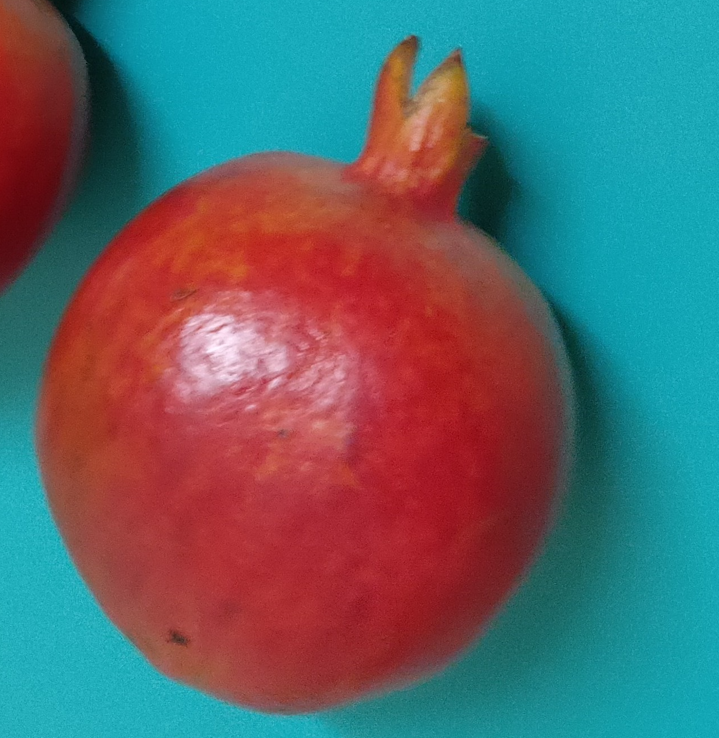pomegranate_A: (35, 32, 575, 718)
